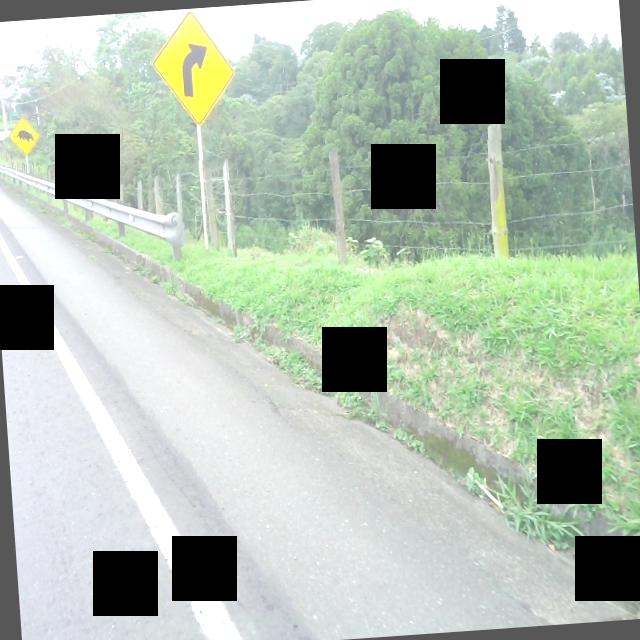DITCH: (0, 17, 640, 640), (0, 130, 640, 640), (0, 160, 640, 640)
